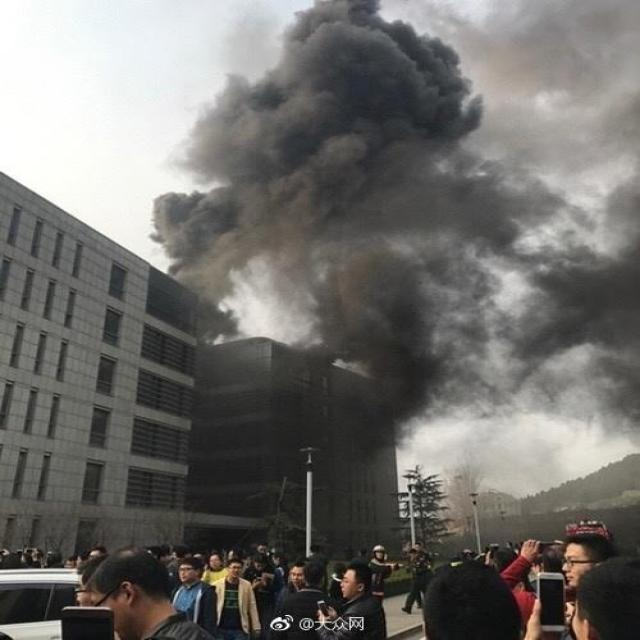Smoke: (147, 1, 639, 454)
